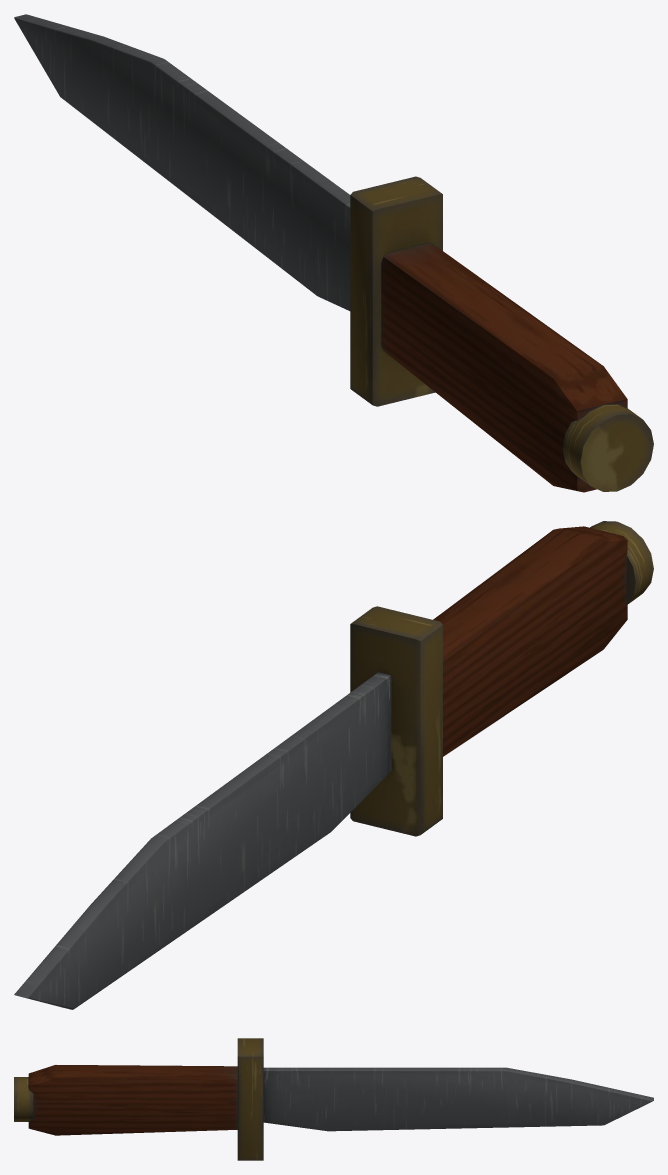
File: knife_bowie.glb
3 renders of one model, top to bottom at view 1: azimuth 30°, elevation 25°; view 2: azimuth 150°, elevation 25°; view 3: azimuth 270°, elevation 25°, orthographic. The views are drawn at different scales.
Visible parts, largest first — view 1: body_receiver, body_furniture, body_metal; view 2: body_receiver, body_furniture, body_metal; view 3: body_receiver, body_furniture, body_metal.
Part boxes in pixels (x1,y1,x2,y2): body_receiver: (14,14,350,310); body_furniture: (381,243,627,492); body_metal: (350,176,653,491); body_receiver: (14,672,391,1009); body_furniture: (433,526,627,756); body_metal: (350,521,653,836); body_receiver: (263,1067,653,1131); body_furniture: (28,1065,237,1135); body_metal: (14,1038,263,1160).
Bounding box in the file's own units: 0.028 × 0.072 × 0.395.
3 materials, 3 textured.
